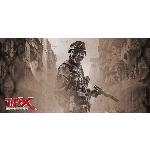Pistol: (91, 83, 109, 97), (68, 94, 74, 112)
